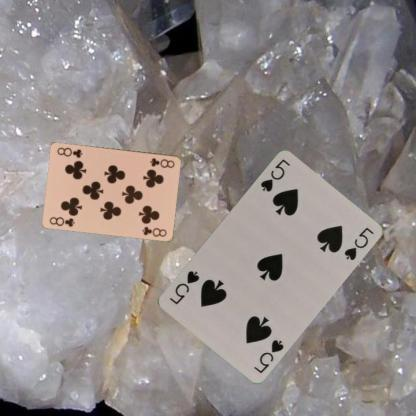5s: (251, 336, 285, 374), (258, 156, 292, 193)
8c: (48, 213, 76, 228), (147, 155, 176, 169)
